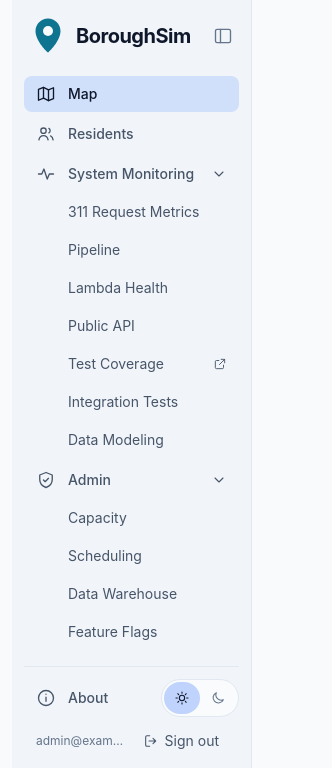
Scenario: Sidebar menu › force-opens a closed accordion when the route moves into it from outside the menu
Click the button "System Monitoring". click: {"x": 132, "y": 174}
box: 24,156 -> 239,192
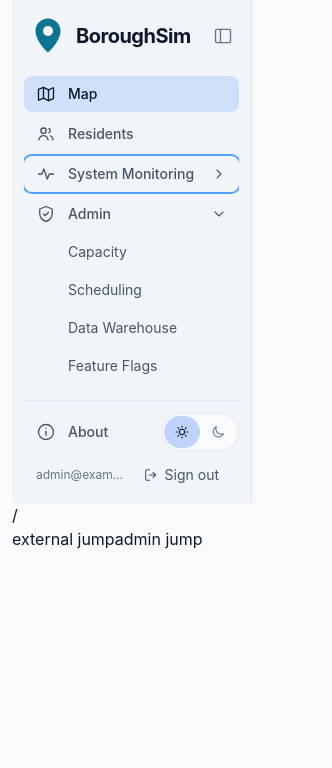
Click the button "Admin". click: {"x": 132, "y": 214}
box: 24,196 -> 239,232
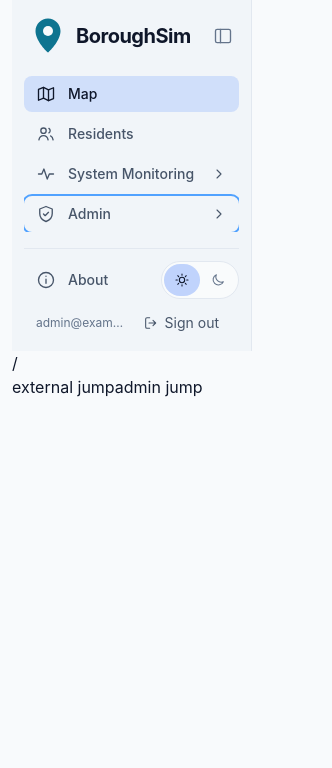
Expected: the button "System Monitoring" is collapsed, 24,156 -> 239,192
Click the link "external jump". click: {"x": 63, "y": 387}
box: 12,377 -> 115,397
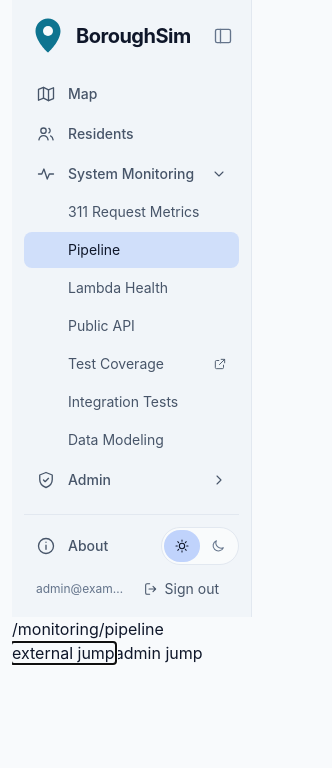
Expected: the button "Admin" is collapsed, 24,462 -> 239,498
Expected: the button "System Monitoring" is expanded, 24,156 -> 239,192
Click the link "admin jump". click: {"x": 159, "y": 653}
box: 115,643 -> 203,663
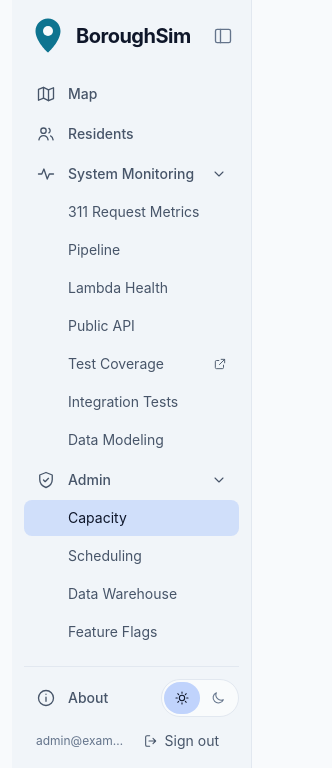
Expected: the button "System Monitoring" is expanded, 24,156 -> 239,192
Expected: the button "Admin" is expanded, 24,462 -> 239,498
